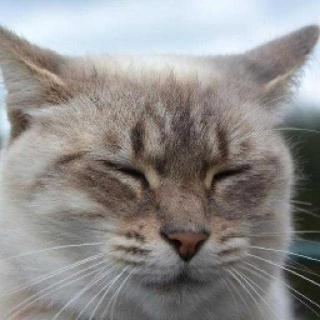cat: (7, 30, 320, 312)
nose: (159, 209, 210, 268)
